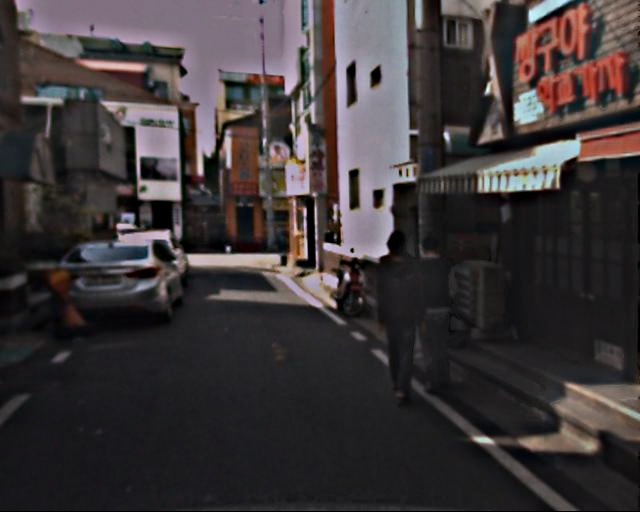person: (365, 234, 436, 406), (400, 233, 466, 393)
